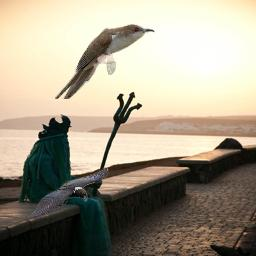Crow: (25, 167, 109, 219)
Cuckoo: (55, 24, 155, 99)
